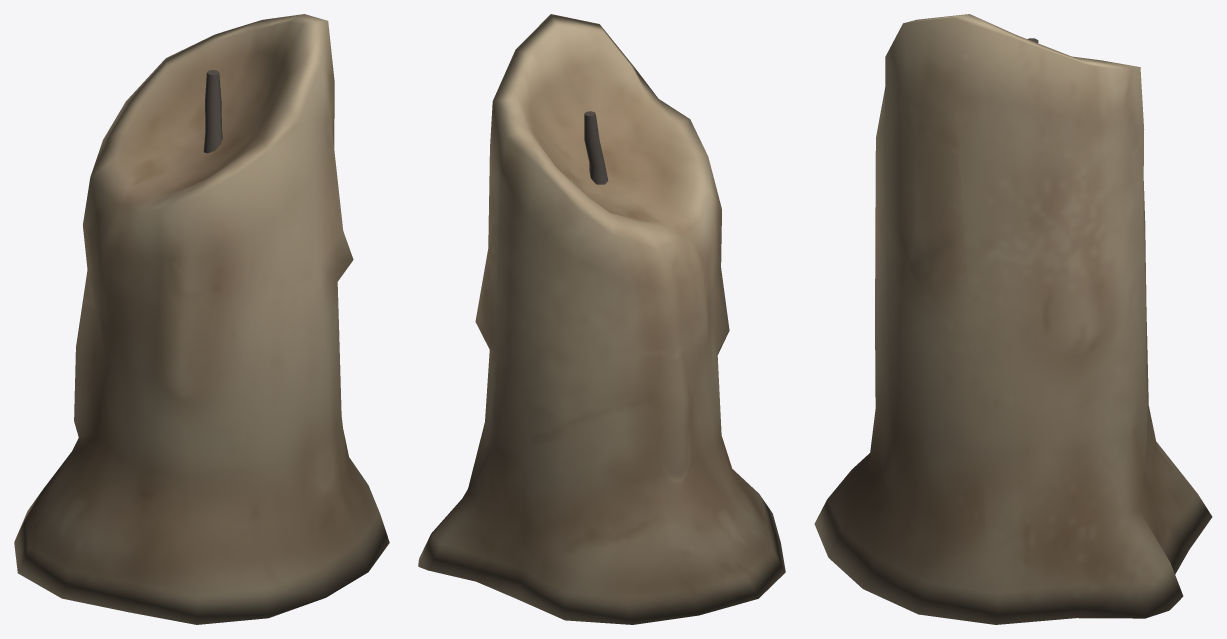
File: SM_candleC_a1.fbx
The picture shows the model from 3 angles, left to right: view 1: azimuth 30°, elevation 25°; view 2: azimuth 150°, elevation 25°; view 3: azimuth 270°, elevation 25°; orthographic projection. The views are drawn at different scales.
Parts seen in each view (by area): view 1: SM_candleC_a1_LOD0; view 2: SM_candleC_a1_LOD0; view 3: SM_candleC_a1_LOD0.
Boxes of the visible parts, <box> form: SM_candleC_a1_LOD0: <box>14,14,389,624</box>; SM_candleC_a1_LOD0: <box>418,14,785,624</box>; SM_candleC_a1_LOD0: <box>814,14,1212,624</box>.
Bounding box in the file's own units: 12.22 × 11.65 × 18.62.
1 material, 1 textured.
